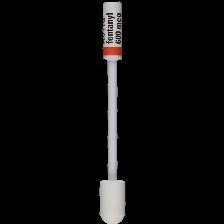63459-506: (0, 0, 224, 224)
